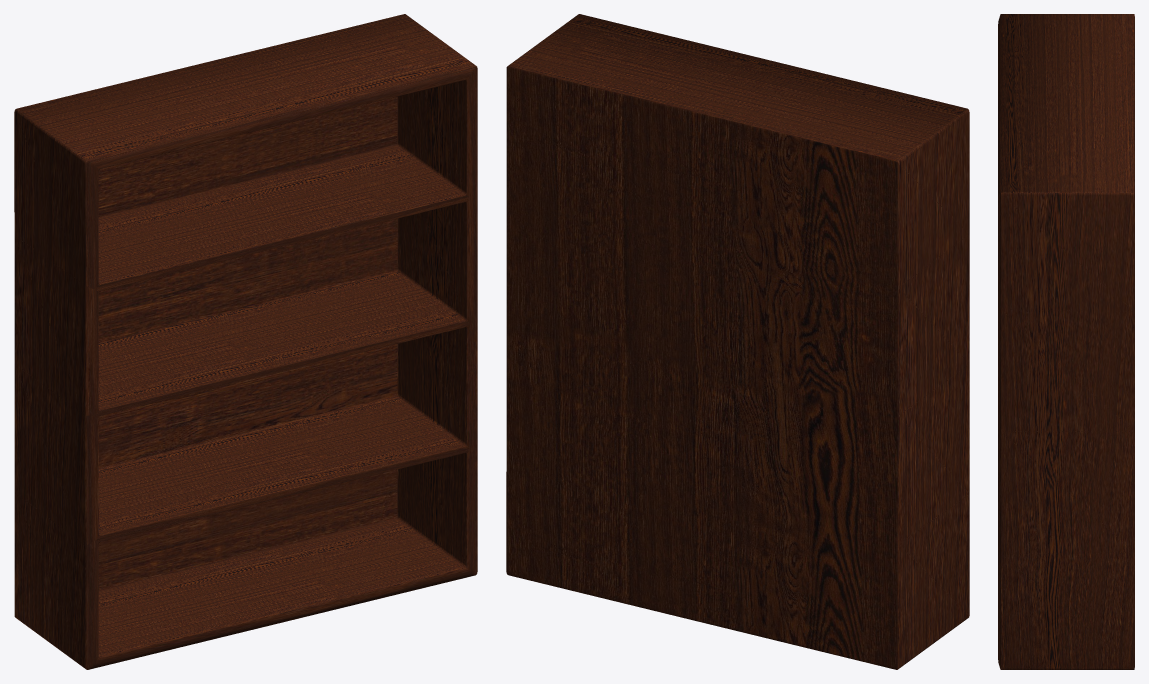
File: LibraryModel.fbx
3 views of the same model, side by side, from view 1: azimuth 30°, elevation 25°; view 2: azimuth 150°, elevation 25°; view 3: azimuth 270°, elevation 25° (orthographic). The views are drawn at different scales.
Visible parts, largest first — view 1: Cube; view 2: Cube; view 3: Cube.
Boxes of the visible parts, box(x1,y1,x2,y2) form: Cube: box(14, 14, 477, 669); Cube: box(506, 14, 969, 669); Cube: box(998, 14, 1134, 669).
Size of the model in its own units: 611 by 758 by 196.
